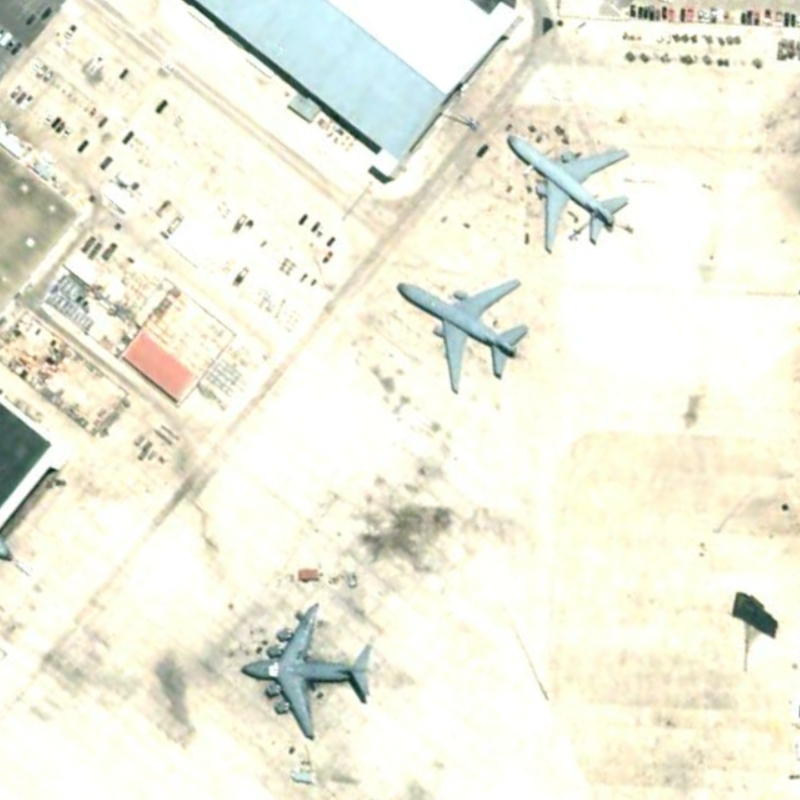A18: (500, 123, 642, 255), (385, 276, 537, 399)
A3: (231, 594, 376, 743)
